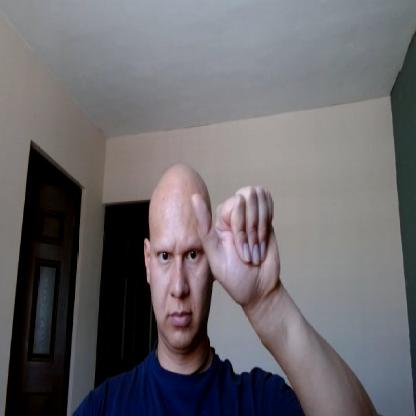A: (192, 186, 282, 303)
